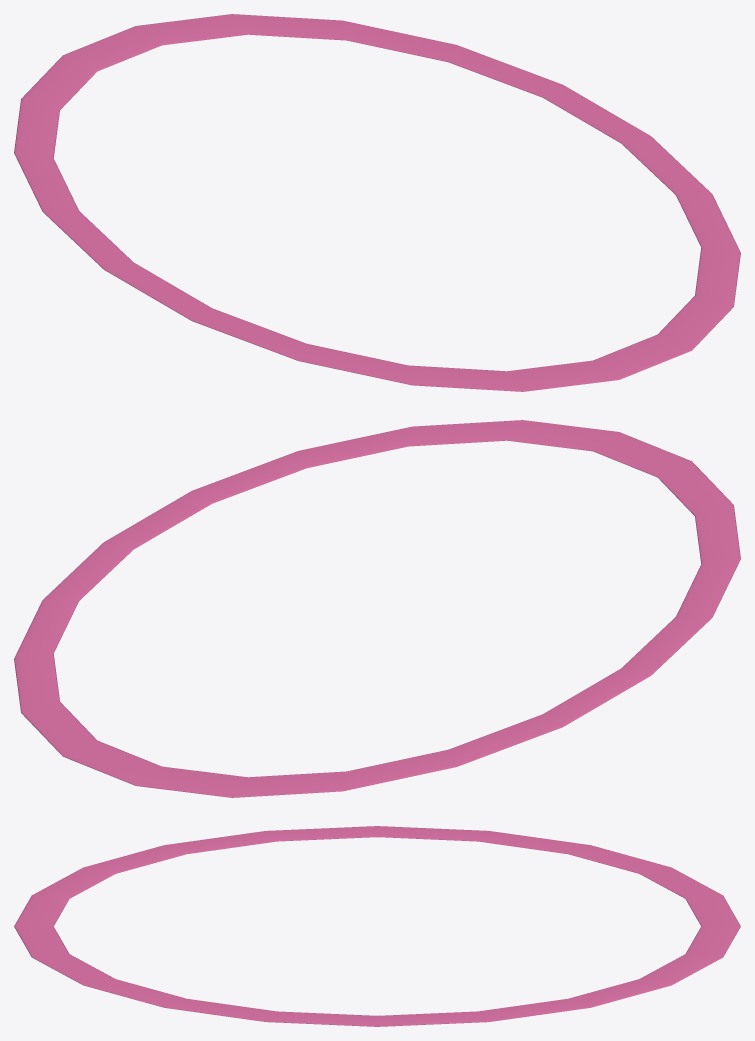
The model's file is force2.fbx.
3 renders of one model, top to bottom at view 1: azimuth 30°, elevation 25°; view 2: azimuth 150°, elevation 25°; view 3: azimuth 270°, elevation 25°, orthographic. The views are drawn at different scales.
Parts seen in each view (by area): view 1: pTorus1; view 2: pTorus1; view 3: pTorus1.
Part boxes in pixels (x1,y1,x2,y2): pTorus1: [14, 14, 740, 391]; pTorus1: [14, 420, 740, 797]; pTorus1: [14, 826, 740, 1026].
Size of the model in its own units: 200 by 1 by 307.
